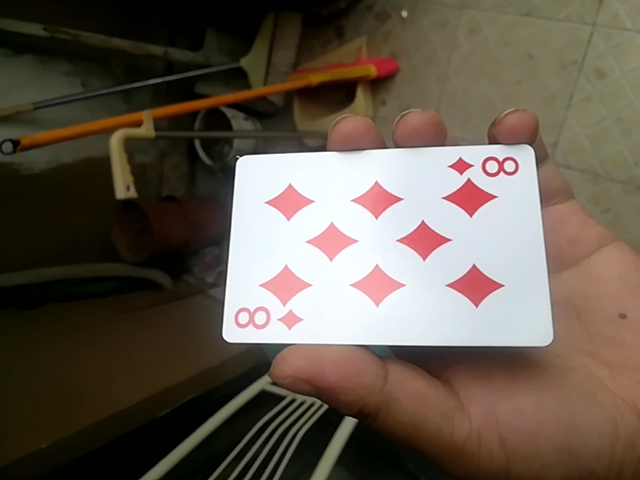fk 8: (219, 141, 552, 348)
